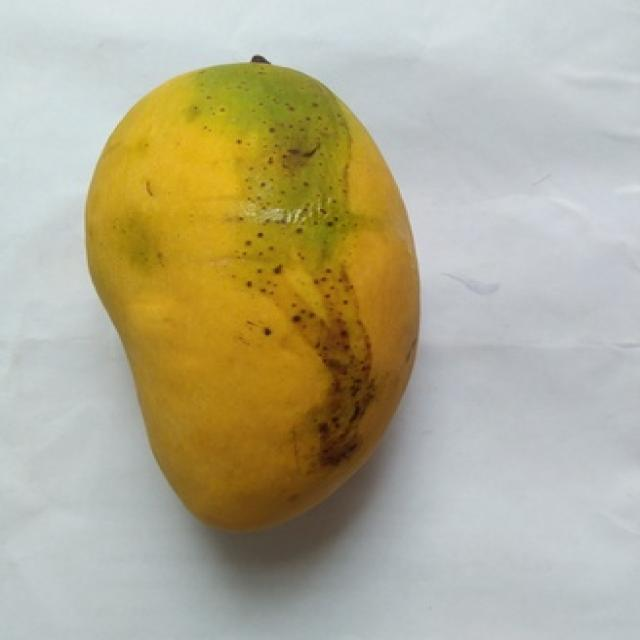Mango: (88, 64, 416, 528)
